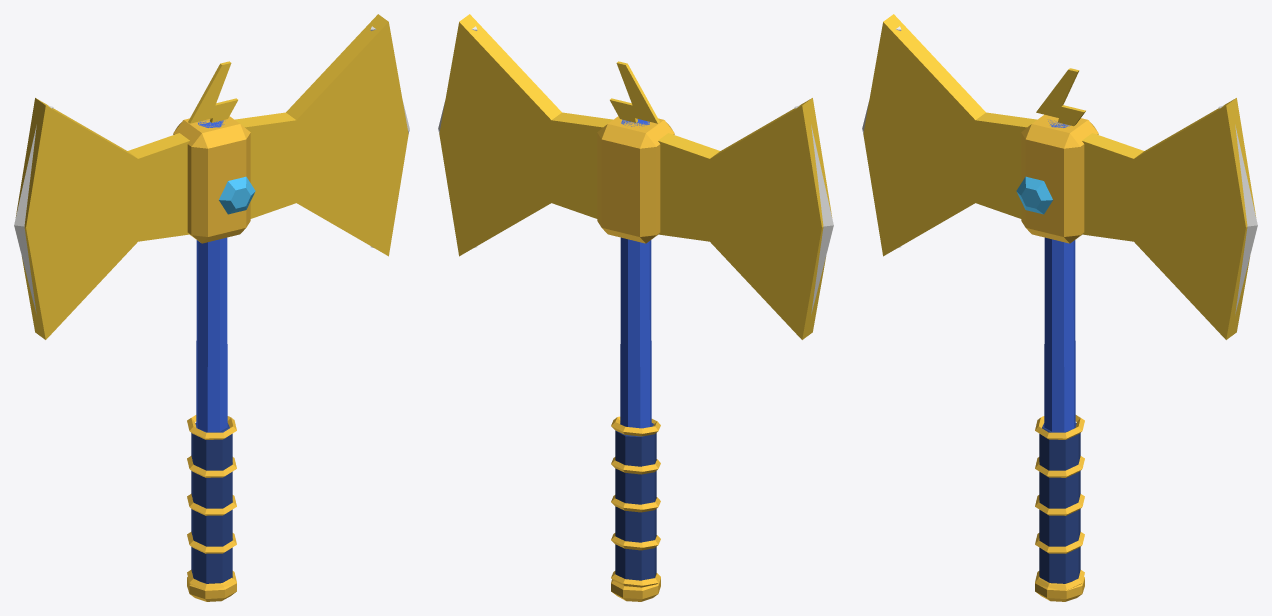
Rendered from ThunderAxe.fbx.
3 renders of one model, left to right at view 1: azimuth 30°, elevation 25°; view 2: azimuth 150°, elevation 25°; view 3: azimuth 330°, elevation 25°, orthographic.
Visible parts, largest first — view 1: ThunderAxe; view 2: ThunderAxe; view 3: ThunderAxe.
Boxes of the visible parts, box(x1,y1,x2,y2) form: ThunderAxe: box(14, 14, 409, 601); ThunderAxe: box(438, 14, 833, 601); ThunderAxe: box(862, 14, 1257, 601).
Bounding box in the file's own units: 3 × 3.87 × 0.58.
1 material, 1 textured.
